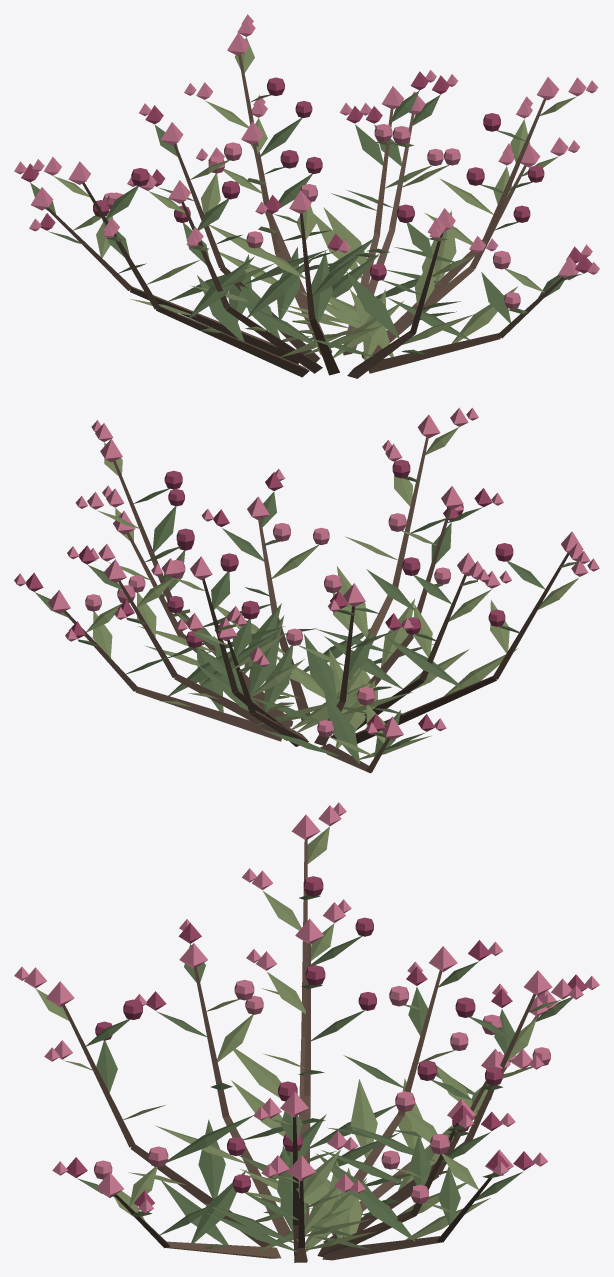
The model's file is w9b-lookout-heather.glb.
The picture shows the model from 3 angles, top to bottom: view 1: azimuth 30°, elevation 25°; view 2: azimuth 150°, elevation 25°; view 3: azimuth 270°, elevation 25°; orthographic projection. The views are drawn at different scales.
Visible parts, largest first — view 1: Rock lookout heather; view 2: Rock lookout heather; view 3: Rock lookout heather.
Boxes of the visible parts, left/top/right/bottom form: Rock lookout heather: left=14, top=14, right=599, bottom=378; Rock lookout heather: left=14, top=407, right=599, bottom=773; Rock lookout heather: left=14, top=802, right=599, bottom=1262.
Size of the model in its own units: 0.8373 by 0.4068 by 0.7239.
